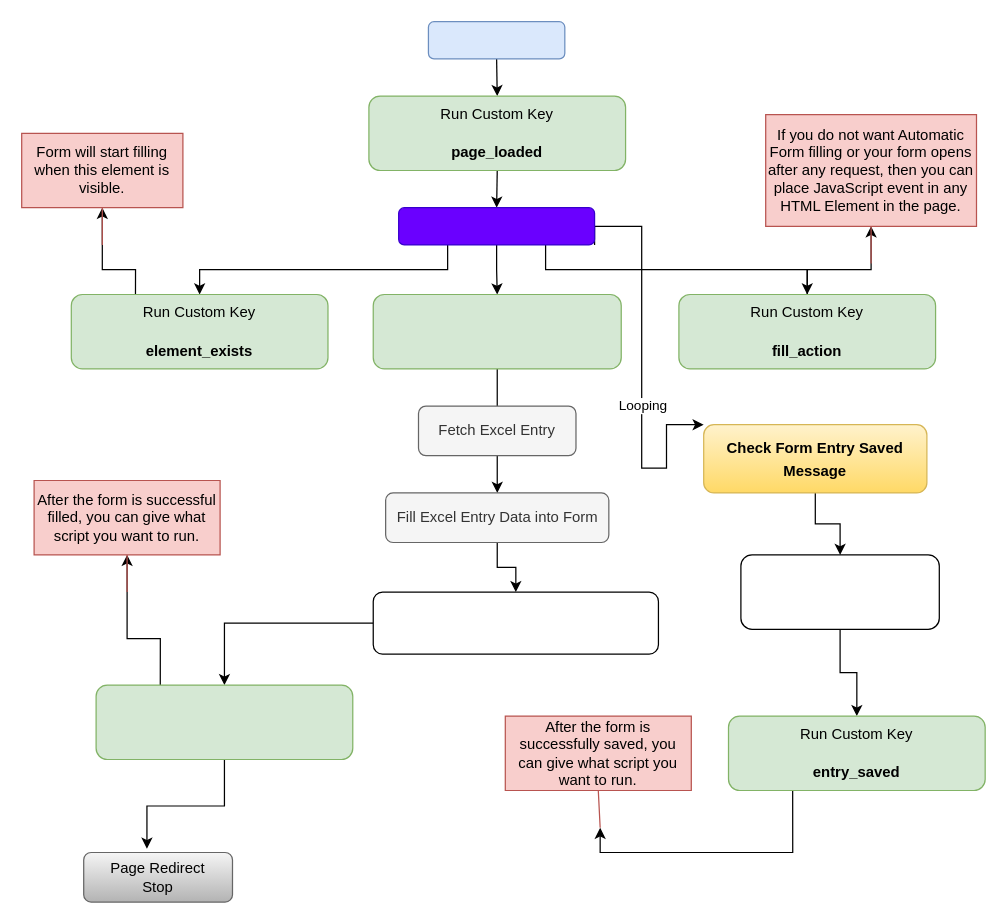
Image size: 1007x924. Some labels were removed from this diagram. Each missing label, with the box of its shape:
If the form has been successfully filled: (372, 591, 658, 654)
Page Loaded: (427, 20, 565, 59)
Run Custom Key form_filled: (95, 684, 353, 760)
Start automatic filling of the form when the page load.: (372, 293, 621, 369)
Start Form Filling: (397, 206, 595, 245)
Success Message Matched to the Form Response Message: (740, 554, 939, 629)
